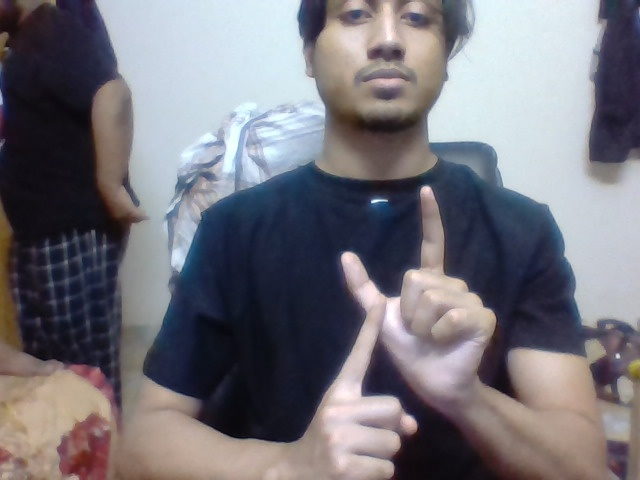Y: (333, 183, 451, 376)
